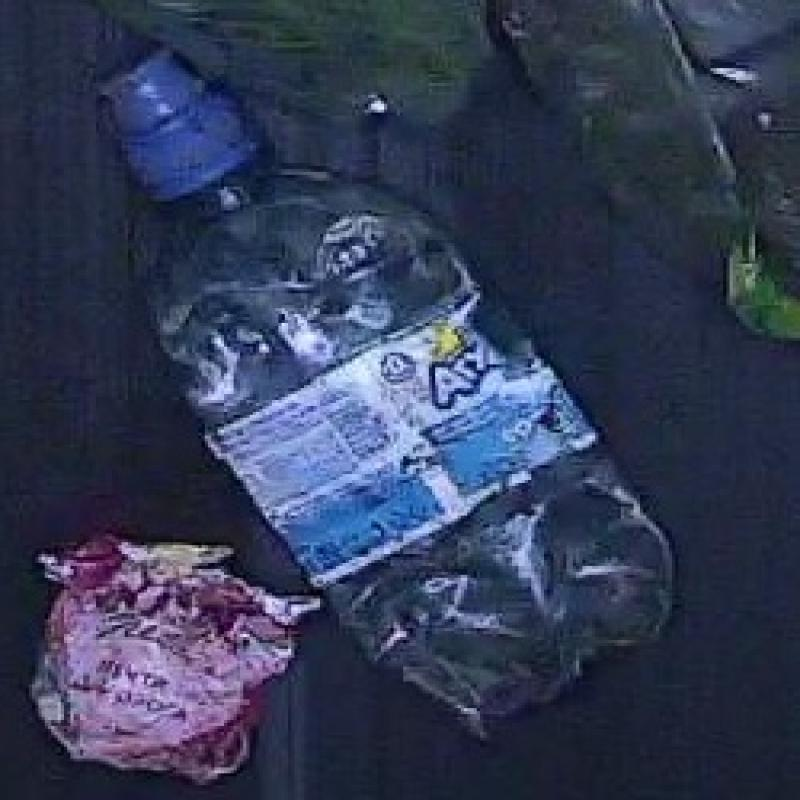botella: (99, 46, 676, 729)
